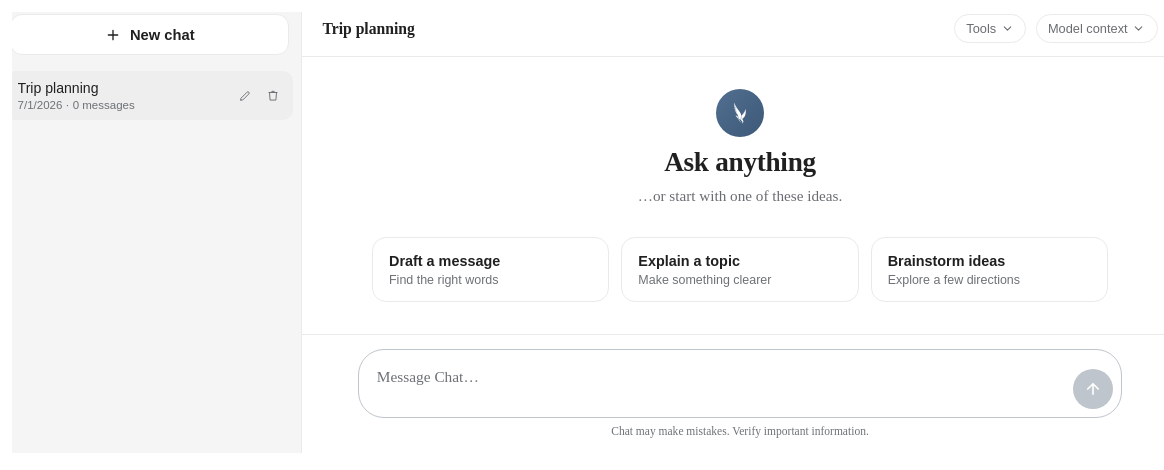
ChatSurface tool discovery › keeps send disabled until Chat is installed
Type "hello" into the text box named "chat message" at (721,384), box x1=377 y1=358 x2=1065 y2=409
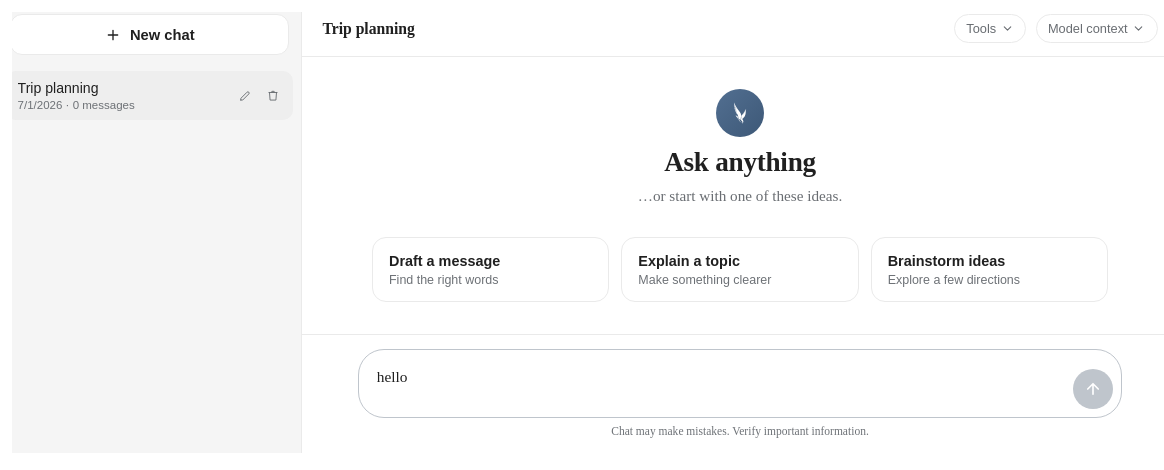
Check: the button named "send message" is disabled, box x1=1073 y1=369 x2=1113 y2=409
Press Enter in the text box named "chat message", box x1=377 y1=358 x2=1065 y2=409
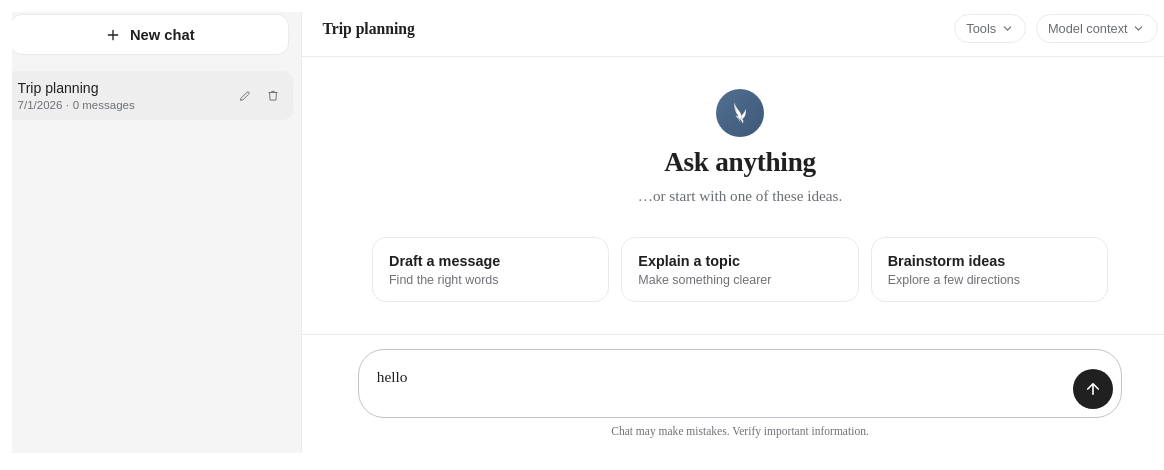
Check: the button named "send message" is enabled, box x1=1073 y1=369 x2=1113 y2=409
